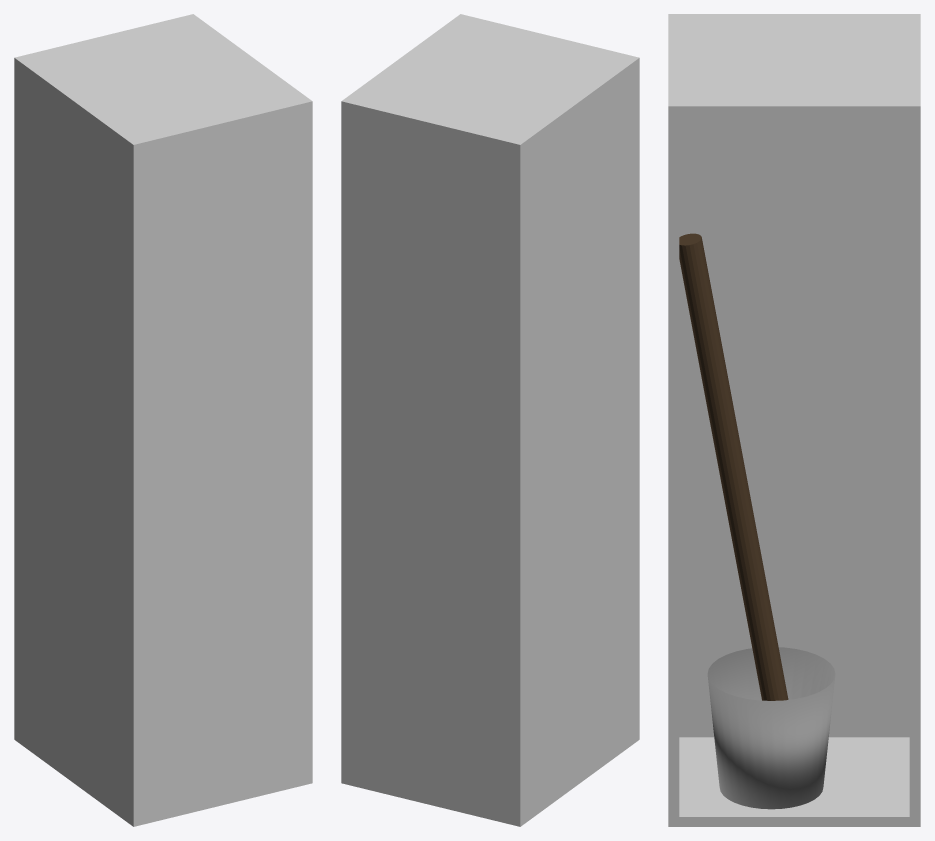
The model's file is locker.fbx.
The picture shows the model from 3 angles, left to right: view 1: azimuth 30°, elevation 25°; view 2: azimuth 150°, elevation 25°; view 3: azimuth 270°, elevation 25°; orthographic projection. The views are drawn at different scales.
Visible parts, largest first — view 1: Cube; view 2: Cube; view 3: Cube, Cylinder, Cylinder.001.
Part boxes in pixels (x1=…): Cube: x1=14, y1=14, x2=312, y2=826; Cube: x1=341, y1=14, x2=639, y2=826; Cube: x1=668, y1=14, x2=920, y2=826; Cylinder: x1=707, y1=647, x2=835, y2=809; Cylinder.001: x1=679, y1=233, x2=788, y2=700.
Bounding box in the file's own units: 200 × 742 × 231.
